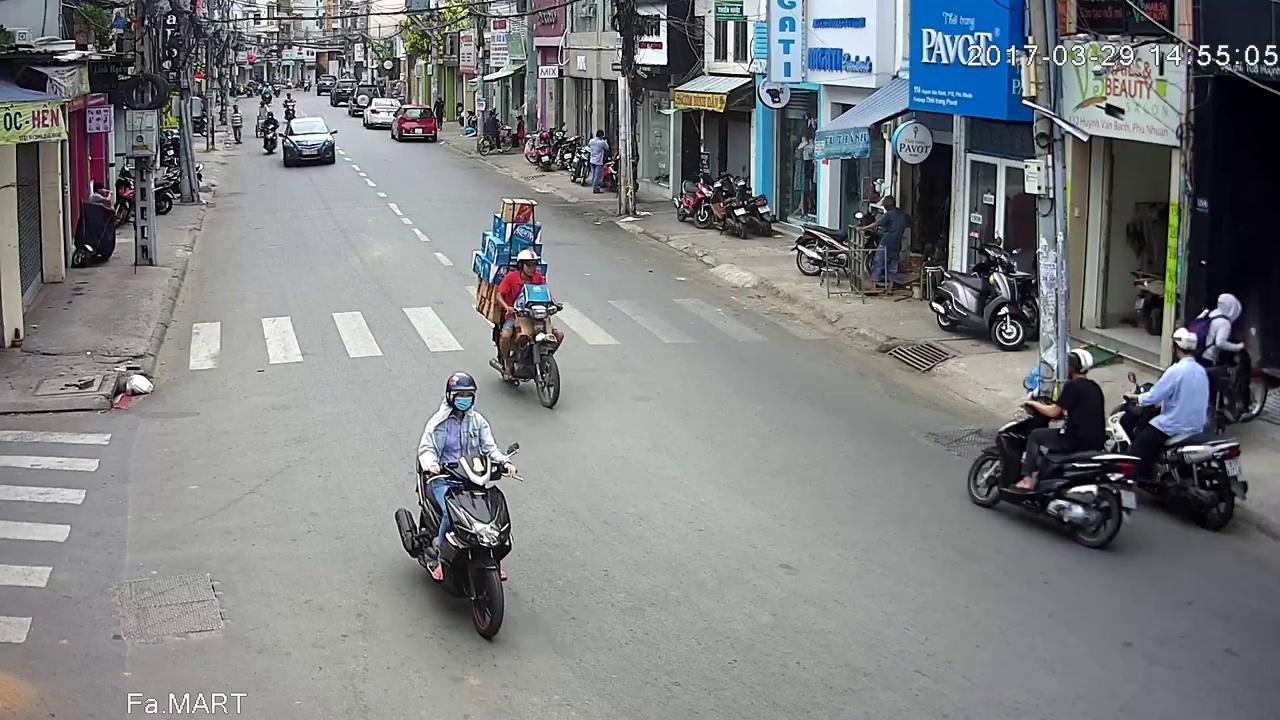xe hoi: (277, 118, 338, 172), (390, 98, 439, 137)
xe may: (397, 369, 527, 640), (963, 349, 1136, 548), (1097, 324, 1243, 528), (491, 231, 569, 394), (263, 112, 281, 157)
